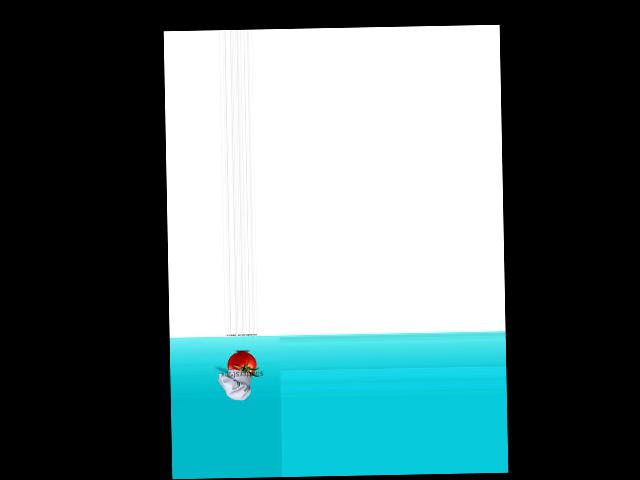tomato: (227, 352, 255, 376)
